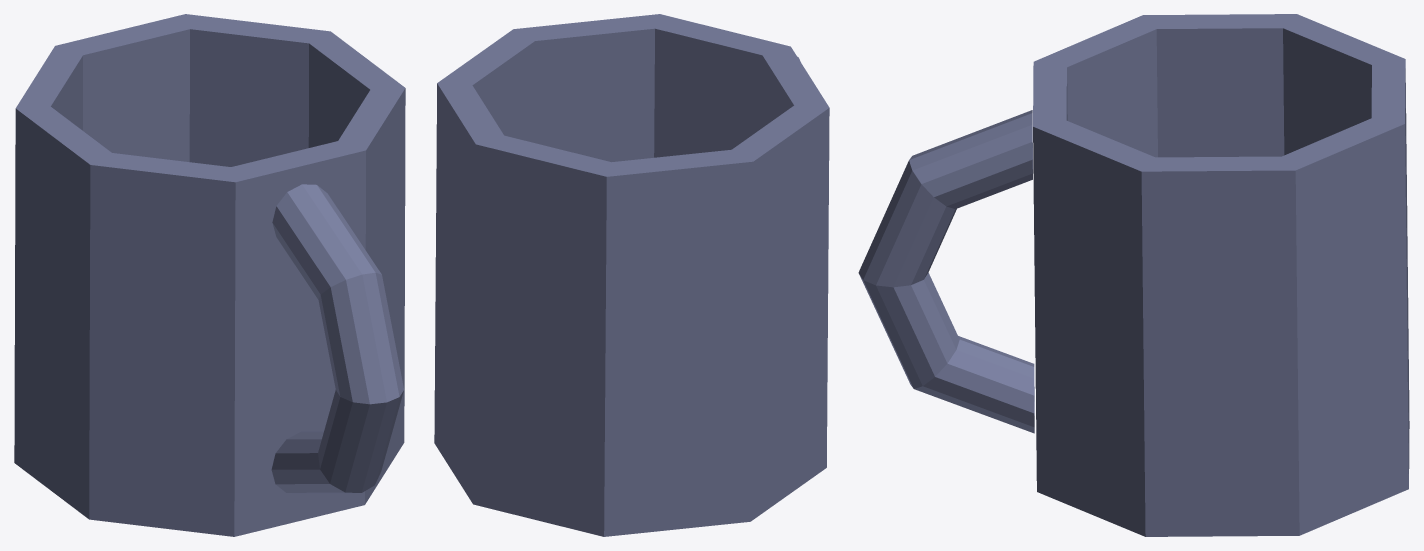
Rendered from cup.fbx.
3 renders of one model, left to right at view 1: azimuth 30°, elevation 25°; view 2: azimuth 150°, elevation 25°; view 3: azimuth 270°, elevation 25°, orthographic. The views are drawn at different scales.
Visible parts, largest first — view 1: Torus; view 2: Torus; view 3: Torus.
Boxes of the visible parts, left/top/right/bottom form: Torus: left=14, top=14, right=405, bottom=536; Torus: left=434, top=14, right=829, bottom=536; Torus: left=858, top=14, right=1409, bottom=536.
Size of the model in its own units: 101 by 110 by 149.
